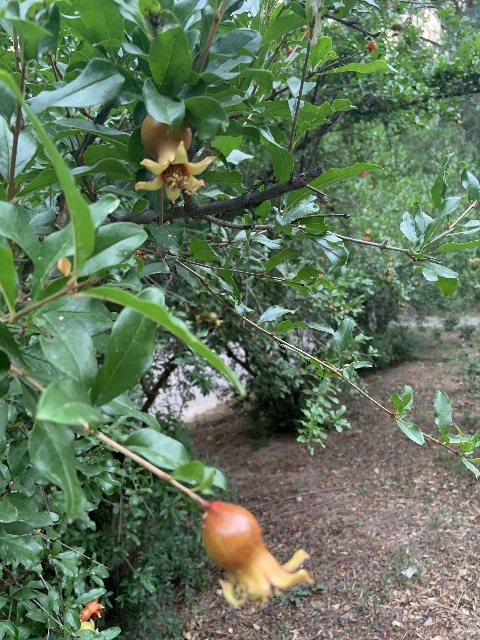early-fruit: (201, 501, 315, 610), (134, 112, 214, 203)
mid-growth: (208, 311, 223, 328), (390, 21, 403, 36)
ripe: (79, 599, 104, 622)
